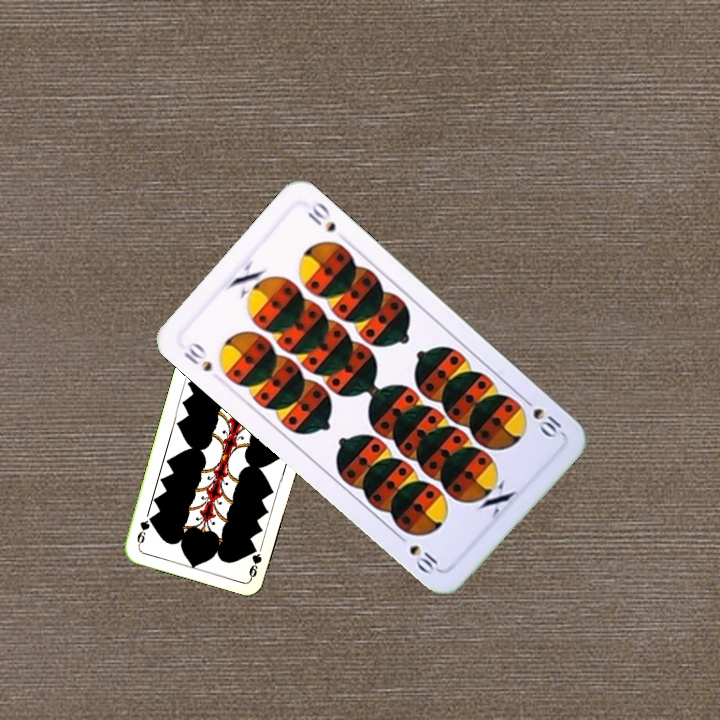G9: (245, 549, 264, 581)
S10: (518, 392, 565, 441), (179, 338, 215, 375)
